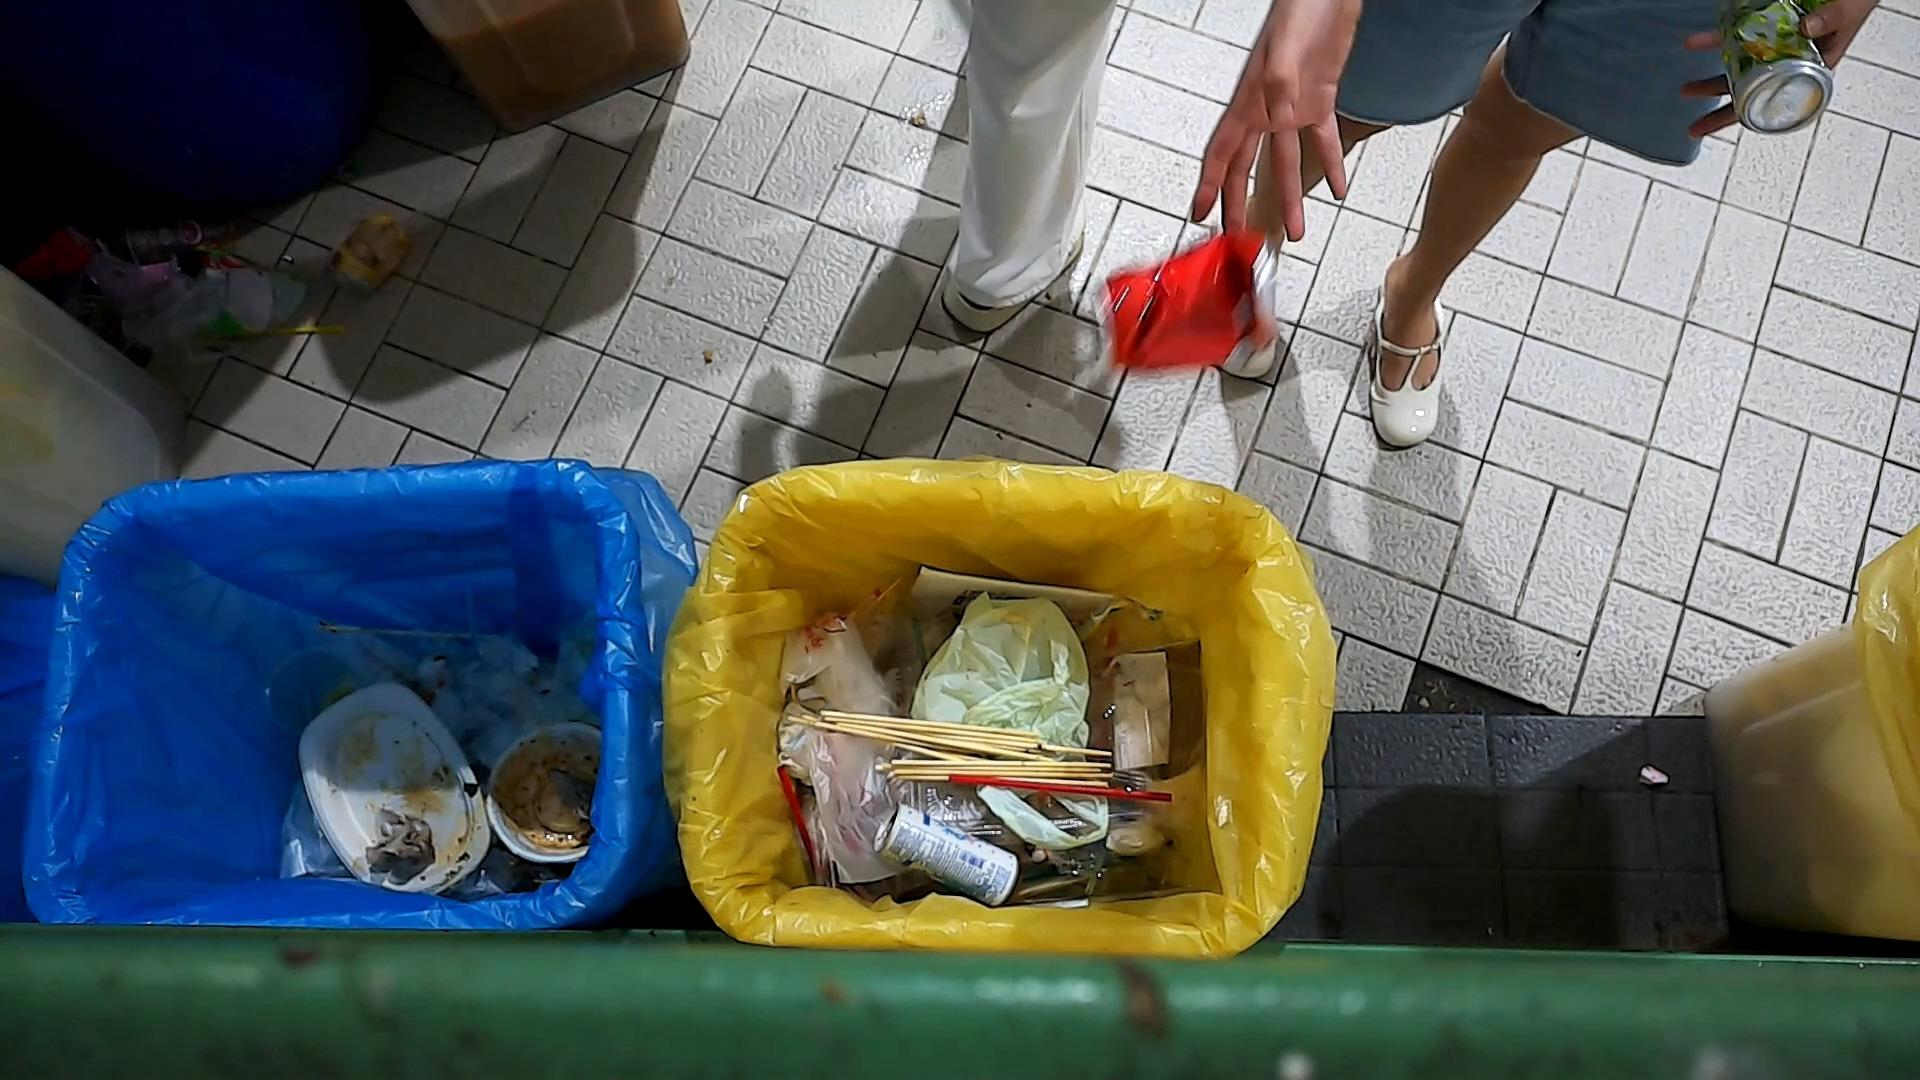can: (1100, 223, 1276, 371), (873, 796, 1017, 910)
dirty food container: (301, 678, 487, 897), (481, 721, 608, 870)
filled plastic bag: (777, 611, 992, 886), (909, 591, 1089, 746)
milk carton: (1104, 650, 1171, 770)
sticks: (791, 713, 1055, 750), (818, 711, 1043, 745), (884, 749, 1112, 775)
straw: (948, 774, 1174, 803), (777, 764, 827, 878)
